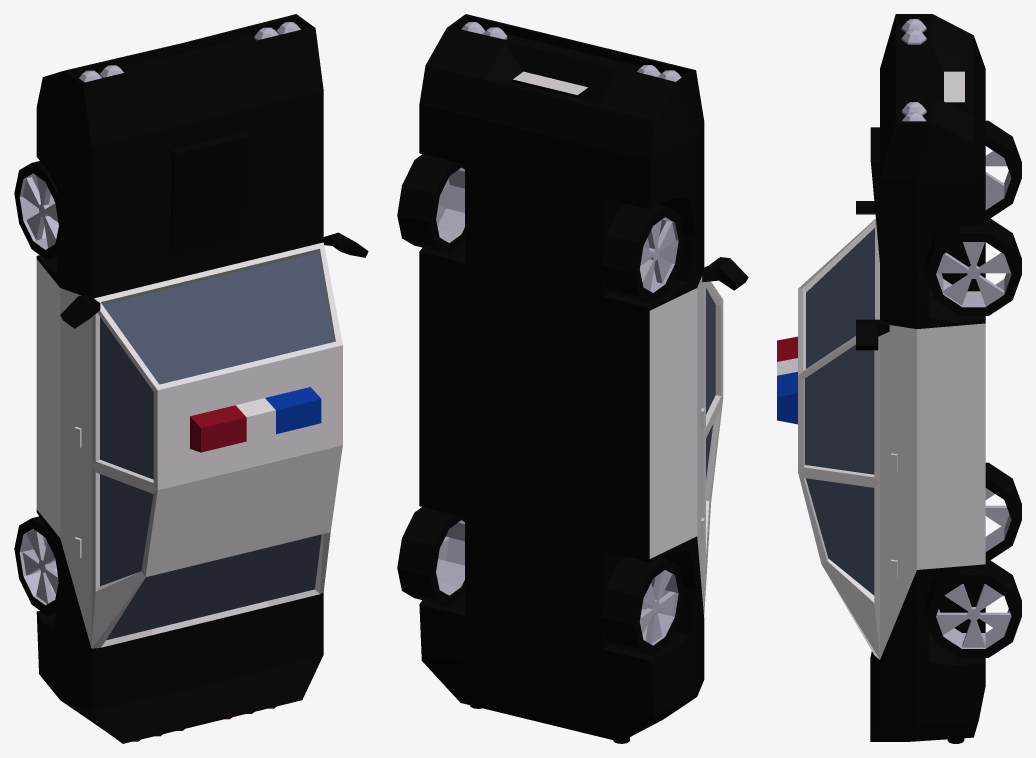
File: Police_Muscle.glb
3 renders of one model, left to right at view 1: azimuth 30°, elevation 25°; view 2: azimuth 150°, elevation 25°; view 3: azimuth 270°, elevation 25°, orthographic. The views are drawn at different scales.
Visible parts, largest first — view 1: Mesh_0; view 2: Mesh_0; view 3: Mesh_0.
Boxes of the visible parts, bbox=[...] form: Mesh_0: bbox=[14, 14, 368, 743]; Mesh_0: bbox=[397, 14, 748, 743]; Mesh_0: bbox=[777, 14, 1021, 743].
Bounding box in the file's own units: 2.81 × 6.06 × 2.09.
